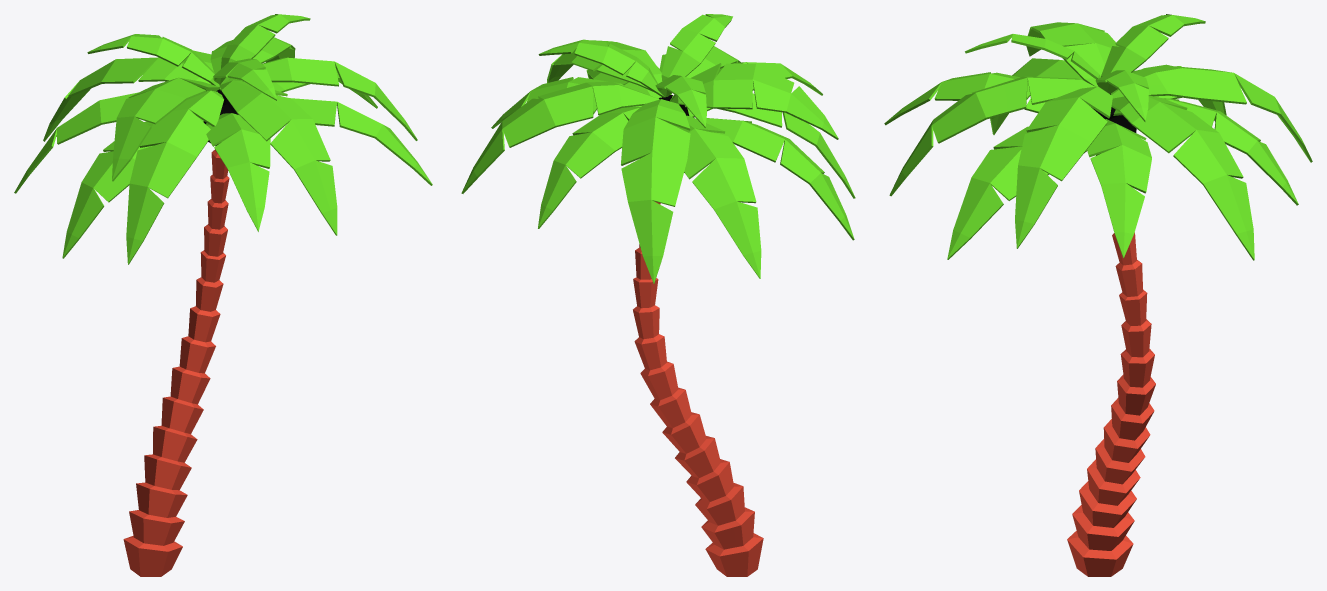
File: Palm_8 Island.fbx
The picture shows the model from 3 angles, left to right: view 1: azimuth 30°, elevation 25°; view 2: azimuth 150°, elevation 25°; view 3: azimuth 270°, elevation 25°; orthographic projection. The views are drawn at different scales.
Parts seen in each view (by area): view 1: Palm_8; view 2: Palm_8; view 3: Palm_8.
Boxes of the visible parts, bbox=[...] form: Palm_8: bbox=[14, 14, 432, 576]; Palm_8: bbox=[461, 14, 855, 576]; Palm_8: bbox=[884, 14, 1312, 576].
Size of the model in its own units: 2.78 by 4 by 2.73.
